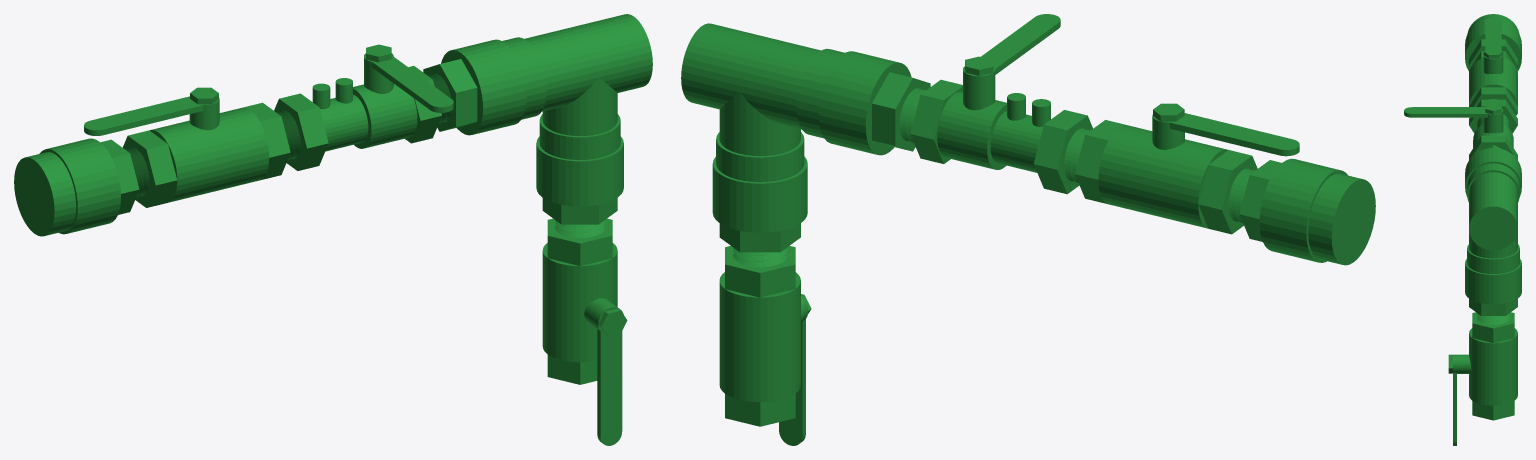
File: patent3.glb
3 renders of one model, left to right at view 1: azimuth 30°, elevation 25°; view 2: azimuth 150°, elevation 25°; view 3: azimuth 270°, elevation 25°, orthographic. The views are drawn at different scales.
Parts seen in each view (by area): view 1: Fake; view 2: Fake; view 3: Fake.
Part boxes in pixels (left/top/right/bottom): Fake: left=14, top=14, right=652, bottom=445; Fake: left=681, top=14, right=1375, bottom=445; Fake: left=1404, top=14, right=1521, bottom=445.
Size of the model in its own units: 0.555 by 0.3725 by 0.145.
